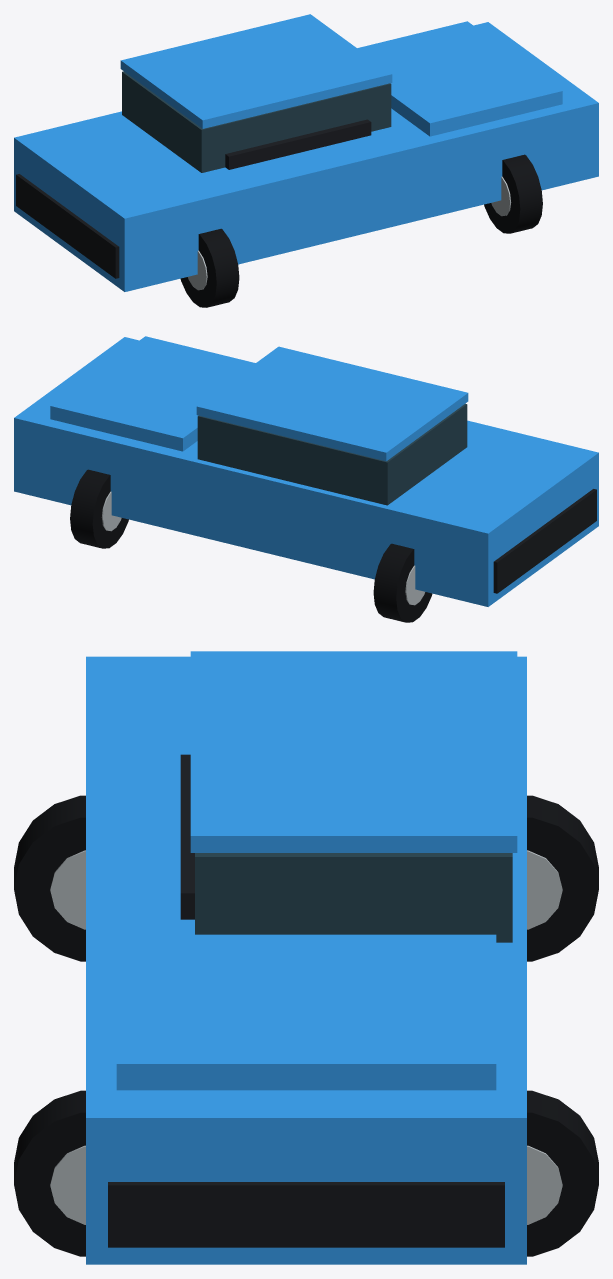
File: ford_thunderbird.glb
The picture shows the model from 3 angles, top to bottom: view 1: azimuth 30°, elevation 25°; view 2: azimuth 150°, elevation 25°; view 3: azimuth 270°, elevation 25°; orthographic projection. The views are drawn at different scales.
Parts seen in each view (by area): view 1: body, roof, hood, cabin, rear_bumper, rear_right_wheel, front_right_wheel, interior; view 2: body, roof, hood, cabin, rear_bumper, rear_left_wheel, front_left_wheel; view 3: body, roof, hood, cabin, front_bumper, rear_left_wheel, rear_right_wheel, front_left_wheel, front_right_wheel, interior.
Part boxes in pixels (x1,y1,x2,y2): body: [14, 22, 598, 291]; roof: [120, 14, 392, 128]; hood: [357, 21, 562, 136]; cabin: [122, 71, 391, 172]; rear_bumper: [16, 174, 119, 278]; rear_right_wheel: [180, 228, 239, 307]; front_right_wheel: [484, 154, 542, 233]; interior: [225, 119, 371, 169]; body: [14, 337, 598, 606]; roof: [196, 346, 468, 461]; hood: [50, 336, 255, 451]; cabin: [197, 403, 467, 505]; rear_bumper: [493, 489, 596, 593]; rear_left_wheel: [373, 543, 432, 622]; front_left_wheel: [70, 469, 128, 548]; body: [86, 656, 526, 1264]; roof: [190, 651, 517, 852]; hood: [116, 934, 496, 1090]; cabin: [195, 853, 512, 942]; front_bumper: [108, 1182, 504, 1247]; rear_left_wheel: [527, 795, 598, 961]; rear_right_wheel: [14, 795, 85, 961]; front_left_wheel: [527, 1090, 598, 1256]; front_right_wheel: [14, 1090, 85, 1256]; interior: [180, 754, 194, 919].
Bounding box in the file's own units: 4.67 × 1.48 × 2.47.
